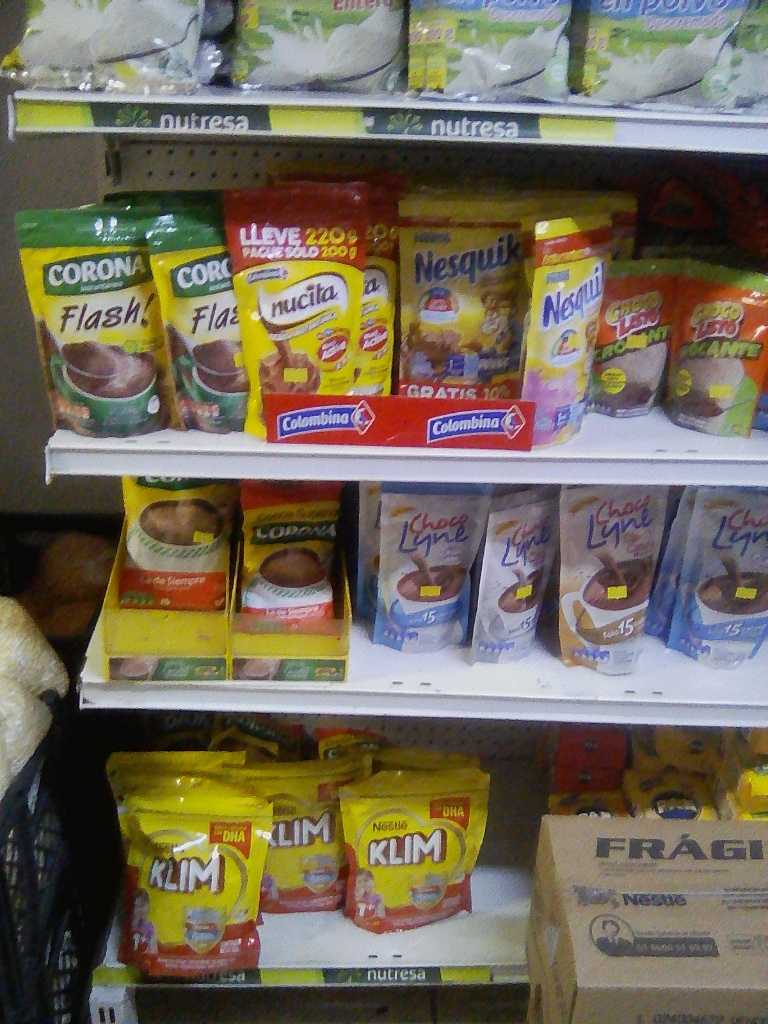COL0170102DYP10000: (599, 261, 668, 415)
COL0170305DYP20000: (528, 216, 606, 446)
